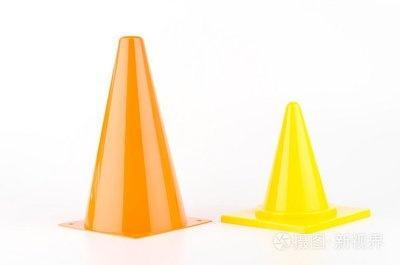cone_barrel: (72, 33, 191, 234), (251, 98, 340, 226)
